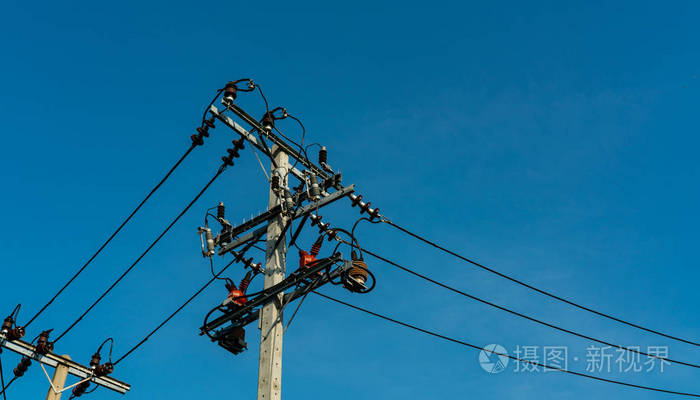insulator: (190, 113, 218, 147), (349, 194, 381, 222), (310, 213, 340, 240), (234, 250, 264, 277), (221, 137, 245, 170)
